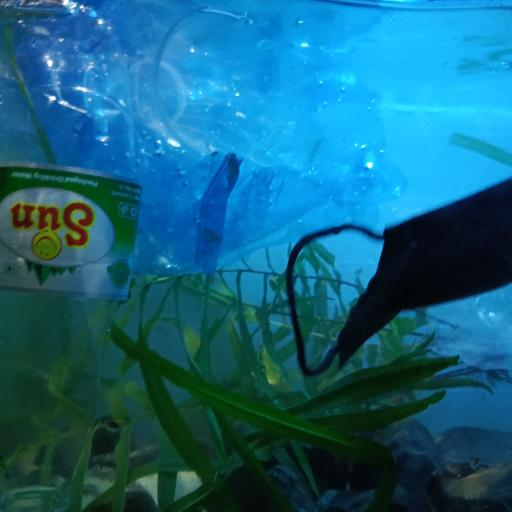mask: (284, 174, 512, 378)
plastic_bag: (27, 1, 416, 280)
plastic_bottle: (0, 1, 137, 512)
plastic_cup: (80, 6, 276, 156)
